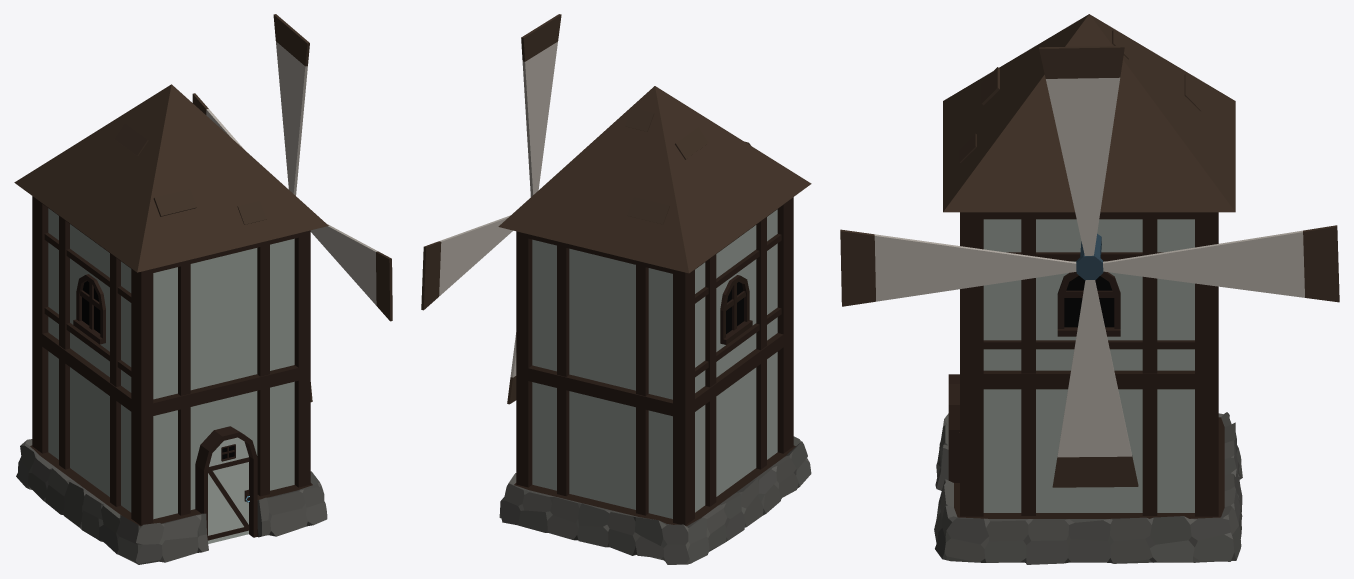
File: Mill_01_B.gltf
3 renders of one model, left to right at view 1: azimuth 30°, elevation 25°; view 2: azimuth 150°, elevation 25°; view 3: azimuth 270°, elevation 25°, orthographic. The views are drawn at different scales.
Parts seen in each view (by area): view 1: Mill_01_B, MillSpinner_01_B, MillDoor_01_B; view 2: Mill_01_B, MillSpinner_01_B; view 3: Mill_01_B, MillSpinner_01_B.
Boxes of the visible parts, x1,y1,x2,y2 form: Mill_01_B: [14, 84, 328, 564]; MillSpinner_01_B: [192, 14, 392, 402]; MillDoor_01_B: [208, 437, 249, 543]; Mill_01_B: [498, 86, 811, 564]; MillSpinner_01_B: [421, 14, 561, 404]; Mill_01_B: [934, 14, 1242, 564]; MillSpinner_01_B: [840, 46, 1339, 487].
Size of the model in its own units: 2.44 by 4.52 by 3.86.
